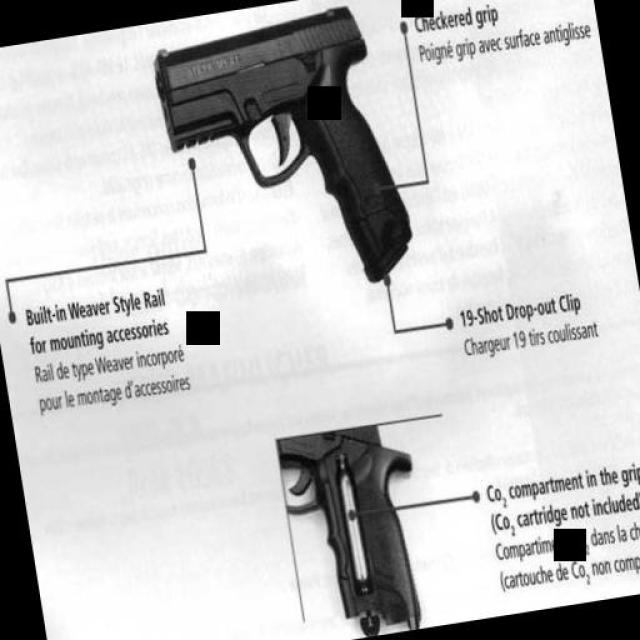gun: (145, 0, 417, 310)
